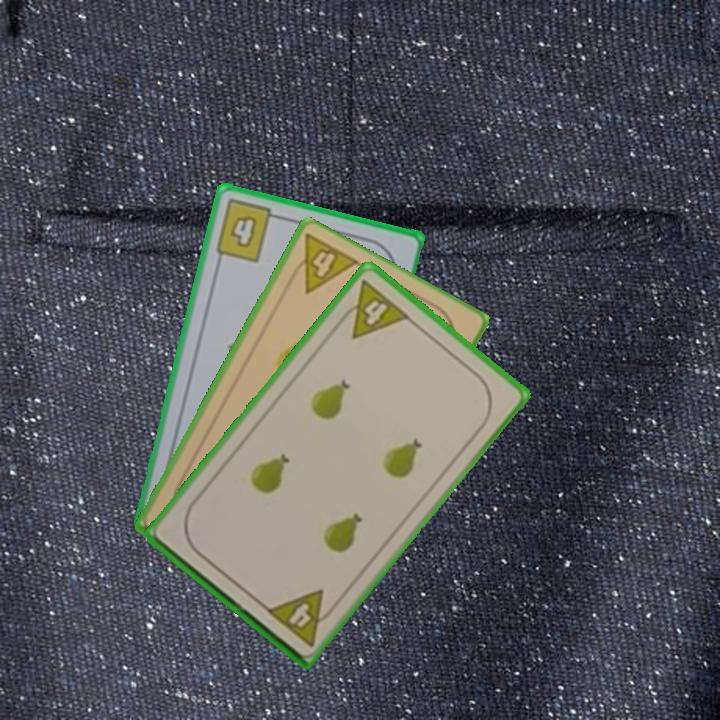4b: (211, 195, 285, 265)
4p: (332, 275, 413, 342), (282, 230, 362, 297), (262, 585, 341, 649)
